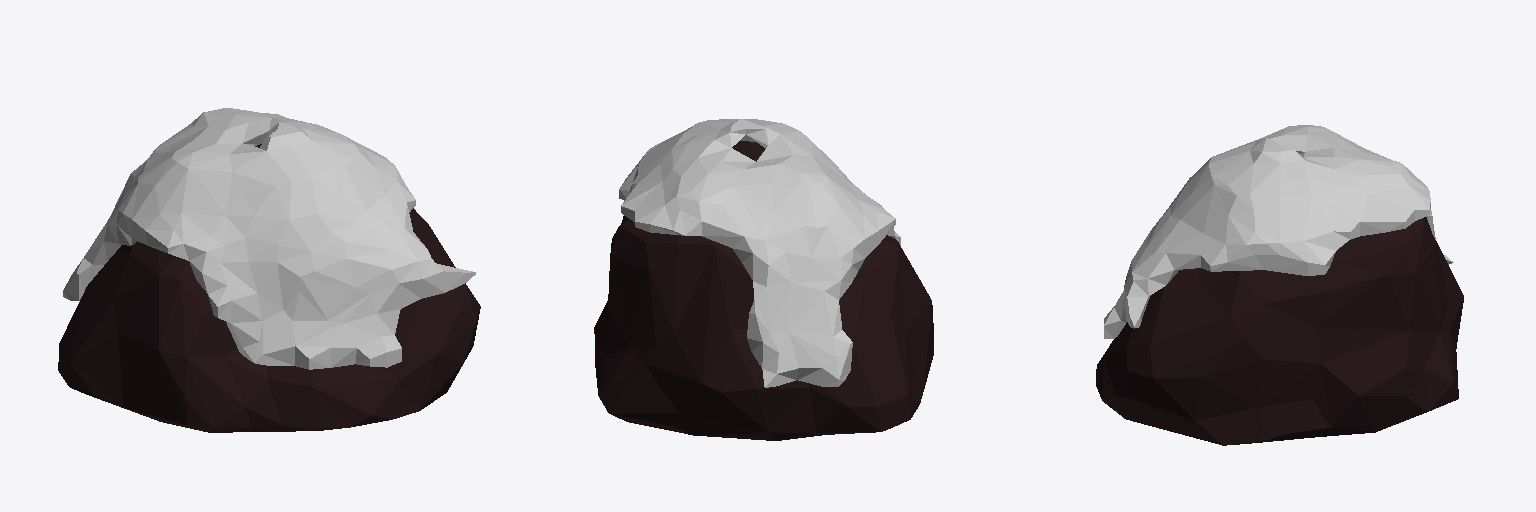
The model's file is Rock_1.obj.
The picture shows the model from 3 angles: view 1: azimuth 30°, elevation 25°; view 2: azimuth 150°, elevation 25°; view 3: azimuth 270°, elevation 25°; orthographic projection.
Visible parts, largest first — view 1: Rock_1_Snow, Rock_1; view 2: Rock_1, Rock_1_Snow; view 3: Rock_1, Rock_1_Snow.
Boxes of the visible parts, <box> form: Rock_1_Snow: <box>63,108,475,369</box>; Rock_1: <box>58,144,480,432</box>; Rock_1: <box>594,141,933,440</box>; Rock_1_Snow: <box>619,119,900,387</box>; Rock_1: <box>1096,217,1463,445</box>; Rock_1_Snow: <box>1104,125,1453,338</box>.
Size of the model in its own units: 1.5 by 1.06 by 1.46.